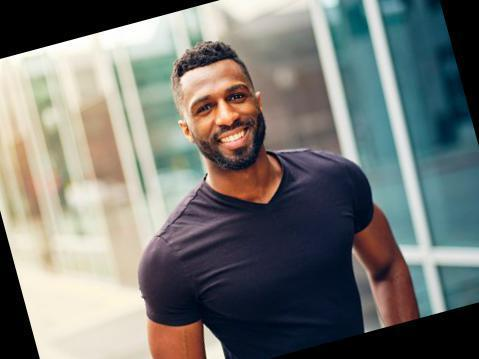Sober: (183, 67, 257, 168)
